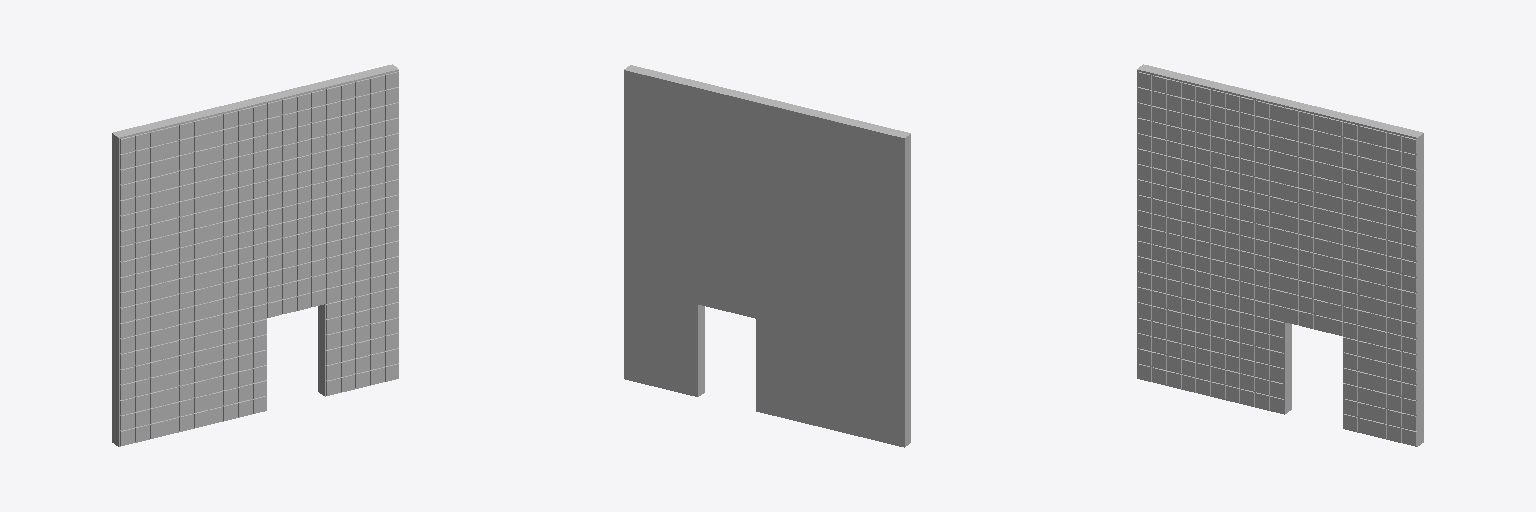
File: BackGround Door.obj
3 renders of one model, left to right at view 1: azimuth 30°, elevation 25°; view 2: azimuth 150°, elevation 25°; view 3: azimuth 330°, elevation 25°, orthographic.
Parts seen in each view (by area): view 1: BackGround_Wall_Door; view 2: BackGround_Wall_Door; view 3: BackGround_Wall_Door.
Boxes of the visible parts, <box> form: BackGround_Wall_Door: <box>112,64,398,446</box>; BackGround_Wall_Door: <box>624,65,910,447</box>; BackGround_Wall_Door: <box>1137,64,1423,446</box>.
Size of the model in its own units: 18.97 by 19.96 by 0.9056.